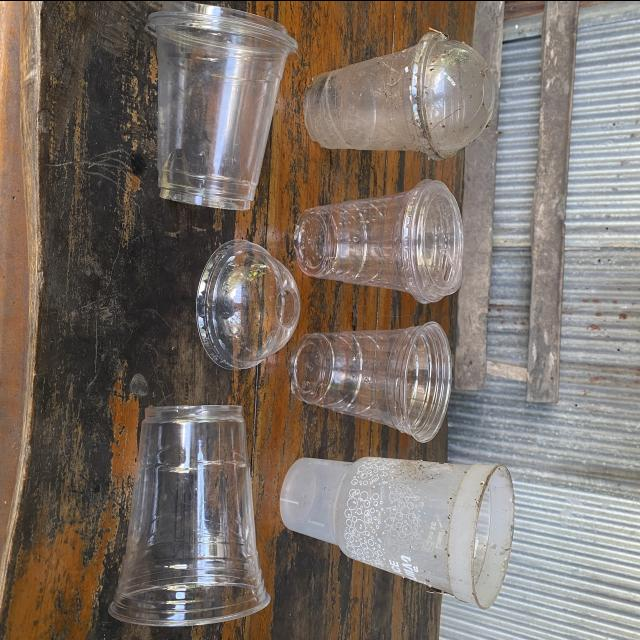plastik: (109, 404, 271, 625), (281, 457, 514, 608), (145, 0, 298, 209), (304, 31, 495, 159), (295, 178, 463, 303), (290, 321, 452, 441), (196, 239, 300, 368)
